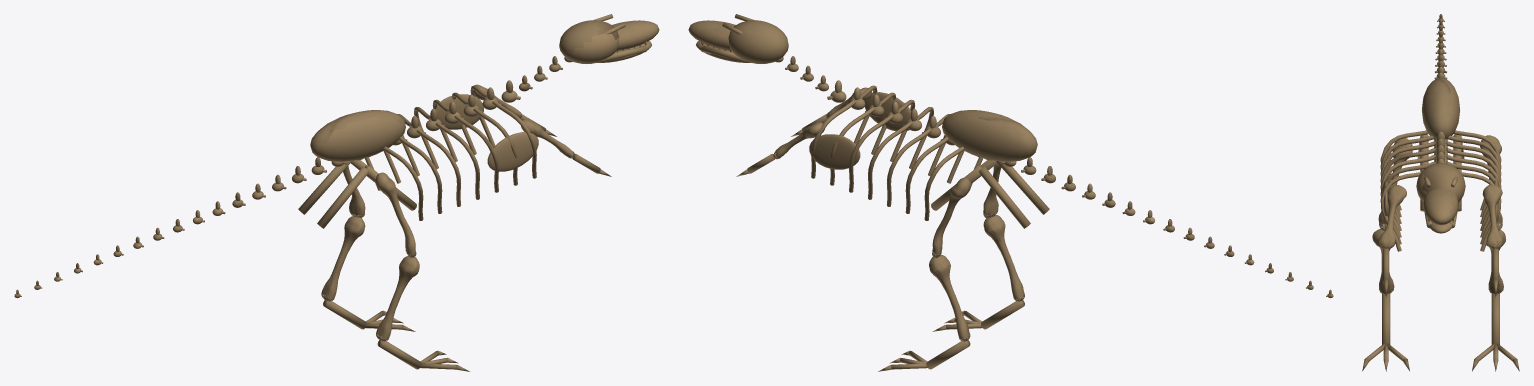
File: Skeleton_Theropod.glb
3 renders of one model, left to right at view 1: azimuth 30°, elevation 25°; view 2: azimuth 150°, elevation 25°; view 3: azimuth 270°, elevation 25°, orthographic.
Visible parts, largest first — view 1: Skeleton_Theropod; view 2: Skeleton_Theropod; view 3: Skeleton_Theropod.
Part boxes in pixels (box(x1,y1,x2,y2)): Skeleton_Theropod: box(14, 14, 659, 371); Skeleton_Theropod: box(688, 14, 1333, 371); Skeleton_Theropod: box(1362, 14, 1519, 371).
Bounding box in the file's own units: 1.36 × 0.568 × 0.2875.
Materials: 1 (1 with a texture image).
